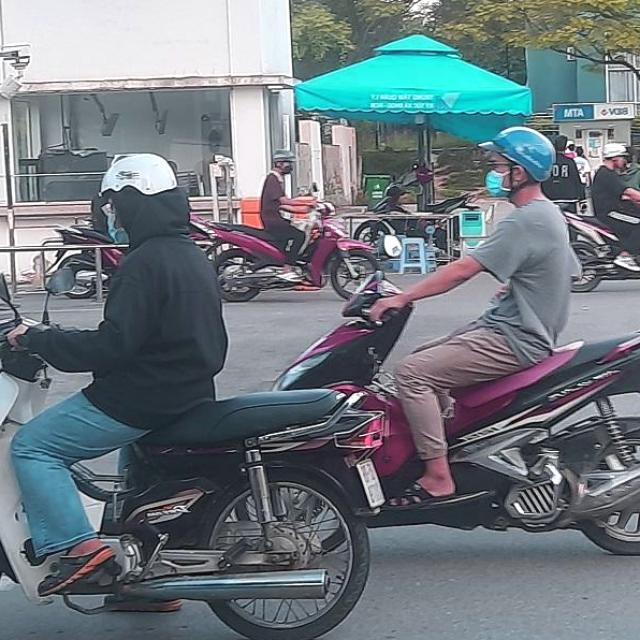Helmet: (99, 147, 182, 246), (478, 125, 557, 199), (272, 148, 302, 176)
